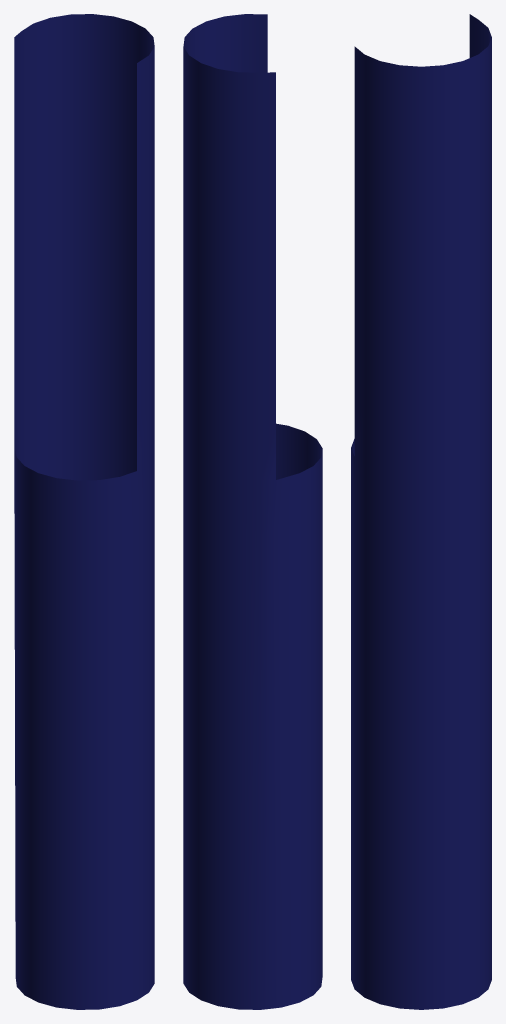
The model's file is Cascade.fbx.
The picture shows the model from 3 angles, left to right: view 1: azimuth 30°, elevation 25°; view 2: azimuth 150°, elevation 25°; view 3: azimuth 270°, elevation 25°; orthographic projection.
Parts seen in each view (by area): view 1: Water; view 2: Water; view 3: Water.
Boxes of the visible parts, x1,y1,x2,y2 form: Water: (14,14,154,1009); Water: (183,14,322,1009); Water: (351,14,491,1009).
Size of the model in its own units: 0.0241 by 0.1781 by 0.0241.
